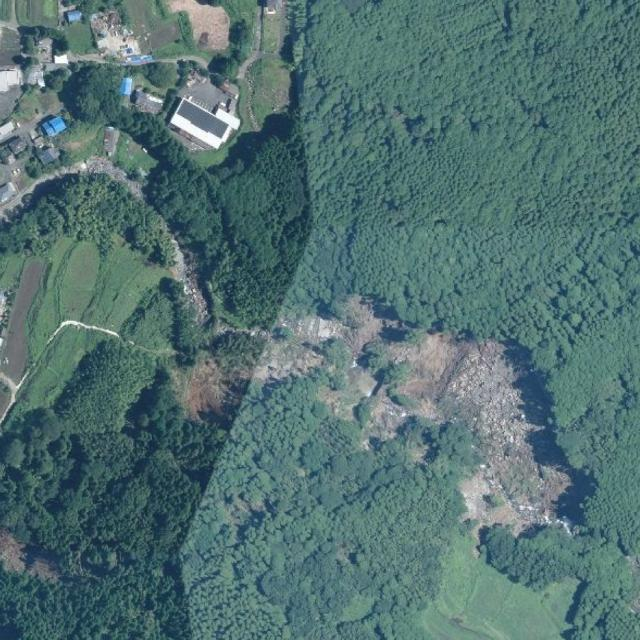landslide: (255, 299, 572, 537)
